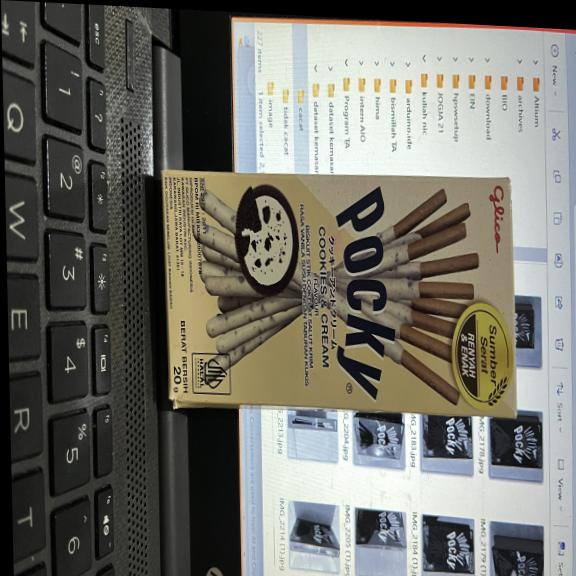Kertas: (166, 160, 515, 430)
